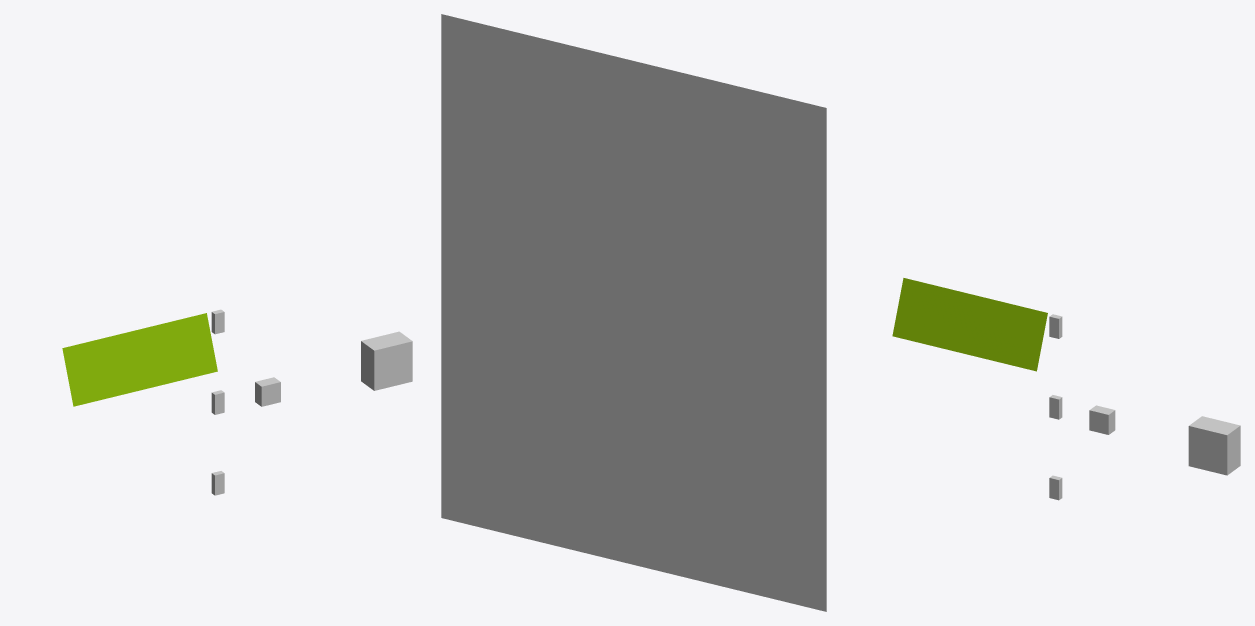
The model's file is 05 - VerySimpleFixedPVC2_with_electrical_layout_v3.gltf.
The picture shows the model from 3 angles, left to right: view 1: azimuth 30°, elevation 25°; view 2: azimuth 150°, elevation 25°; view 3: azimuth 330°, elevation 25°; orthographic projection.
Visible parts, largest first — view 1: PVnode1, Transformer3DNode, Combiner3DNode; view 2: TerrainNode1; view 3: PVnode1, Transformer3DNode, Combiner3DNode.
Boxes of the visible parts, x1=… form: PVnode1: x1=62, y1=313, x2=217, y2=406; Transformer3DNode: x1=361, y1=331, x2=412, y2=390; Combiner3DNode: x1=255, y1=377, x2=280, y2=406; TerrainNode1: x1=441, y1=14, x2=826, y2=611; PVnode1: x1=892, y1=278, x2=1047, y2=371; Transformer3DNode: x1=1188, y1=416, x2=1240, y2=475; Combiner3DNode: x1=1089, y1=405, x2=1115, y2=434.
Bounding box in the file's own units: 4000 × 5000 × 240.
